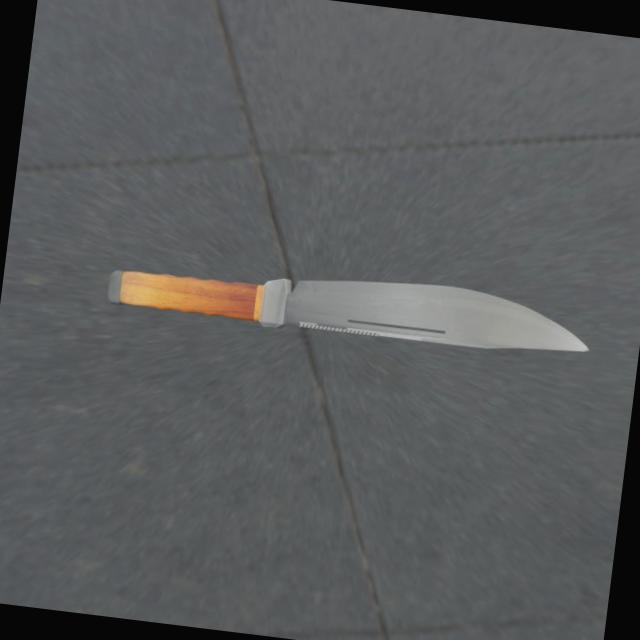knife: (98, 260, 292, 328)
